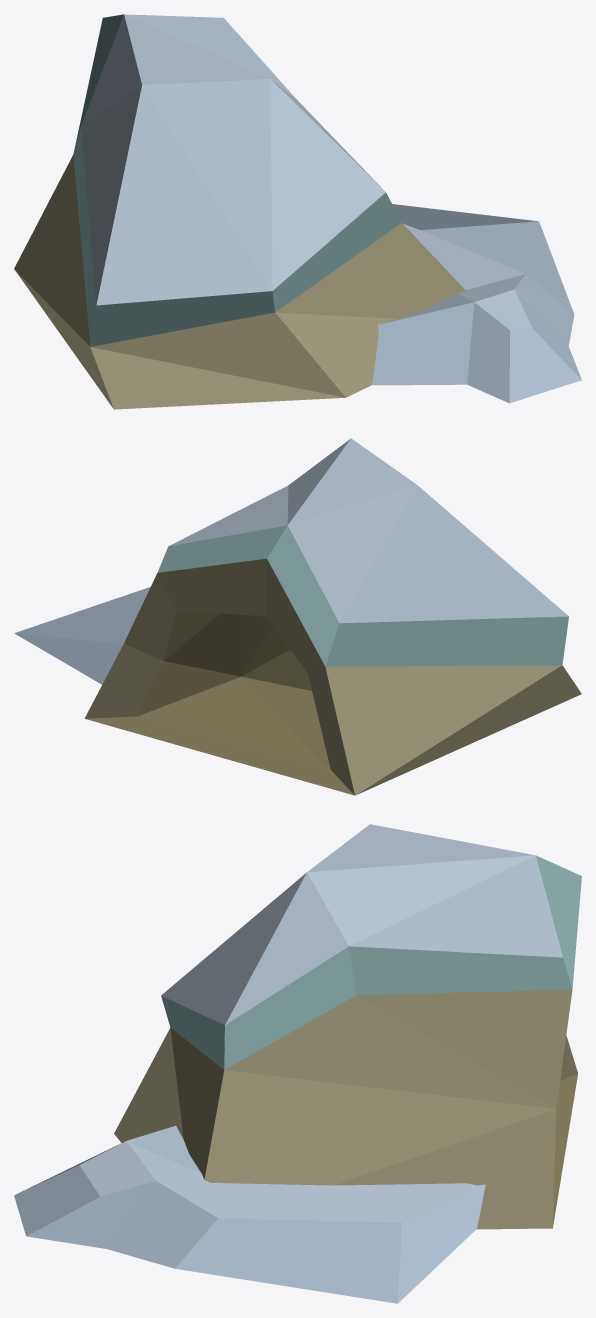
Rendered from CaveWinter_Alt2.fbx.
The picture shows the model from 3 angles, top to bottom: view 1: azimuth 30°, elevation 25°; view 2: azimuth 150°, elevation 25°; view 3: azimuth 270°, elevation 25°; orthographic projection. The views are drawn at different scales.
Parts seen in each view (by area): view 1: CaveWinter_Alt2; view 2: CaveWinter_Alt2; view 3: CaveWinter_Alt2.
Part boxes in pixels (<box>): CaveWinter_Alt2: <box>14,14,581,409</box>; CaveWinter_Alt2: <box>14,438,581,795</box>; CaveWinter_Alt2: <box>14,824,581,1303</box>.
Size of the model in its own units: 2.71 by 1.27 by 2.42.
